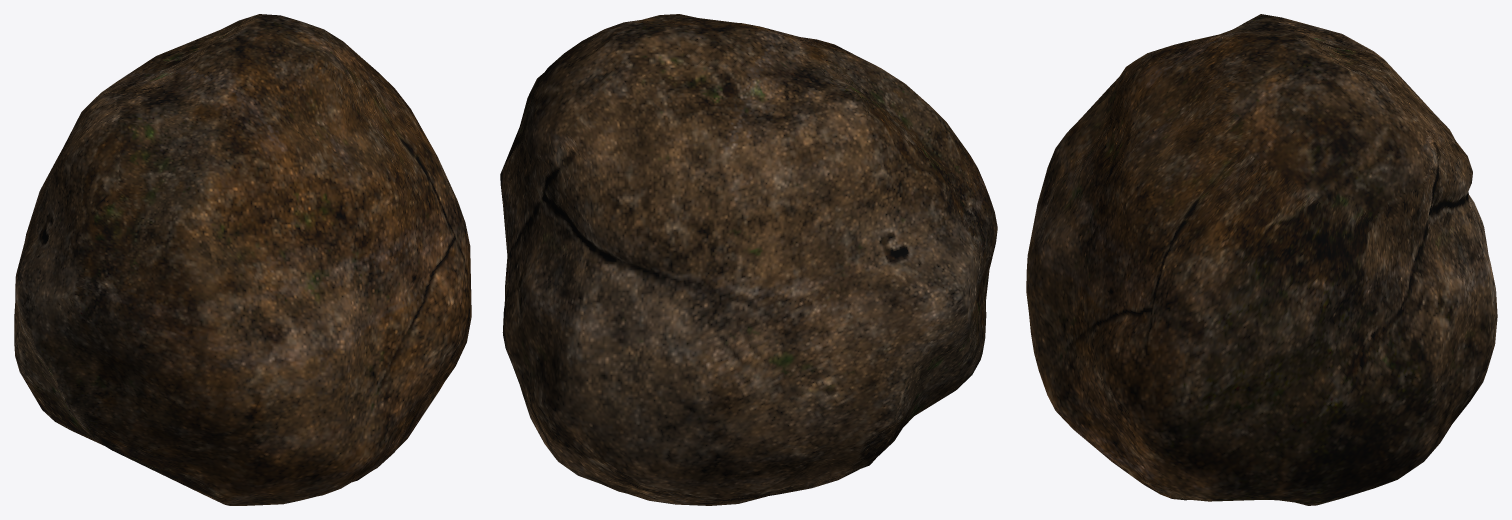
Rendered from SM_TI_Rock_0.fbx.
The picture shows the model from 3 angles, left to right: view 1: azimuth 30°, elevation 25°; view 2: azimuth 150°, elevation 25°; view 3: azimuth 270°, elevation 25°; orthographic projection. The views are drawn at different scales.
Visible parts, largest first — view 1: SM_TI_Rock_0; view 2: SM_TI_Rock_0; view 3: SM_TI_Rock_0.
Boxes of the visible parts, box(x1,y1,x2,y2) form: SM_TI_Rock_0: box(14, 14, 471, 505); SM_TI_Rock_0: box(500, 14, 997, 505); SM_TI_Rock_0: box(1026, 14, 1497, 505).
Bounding box in the file's own units: 8.45 × 8.06 × 8.44.
